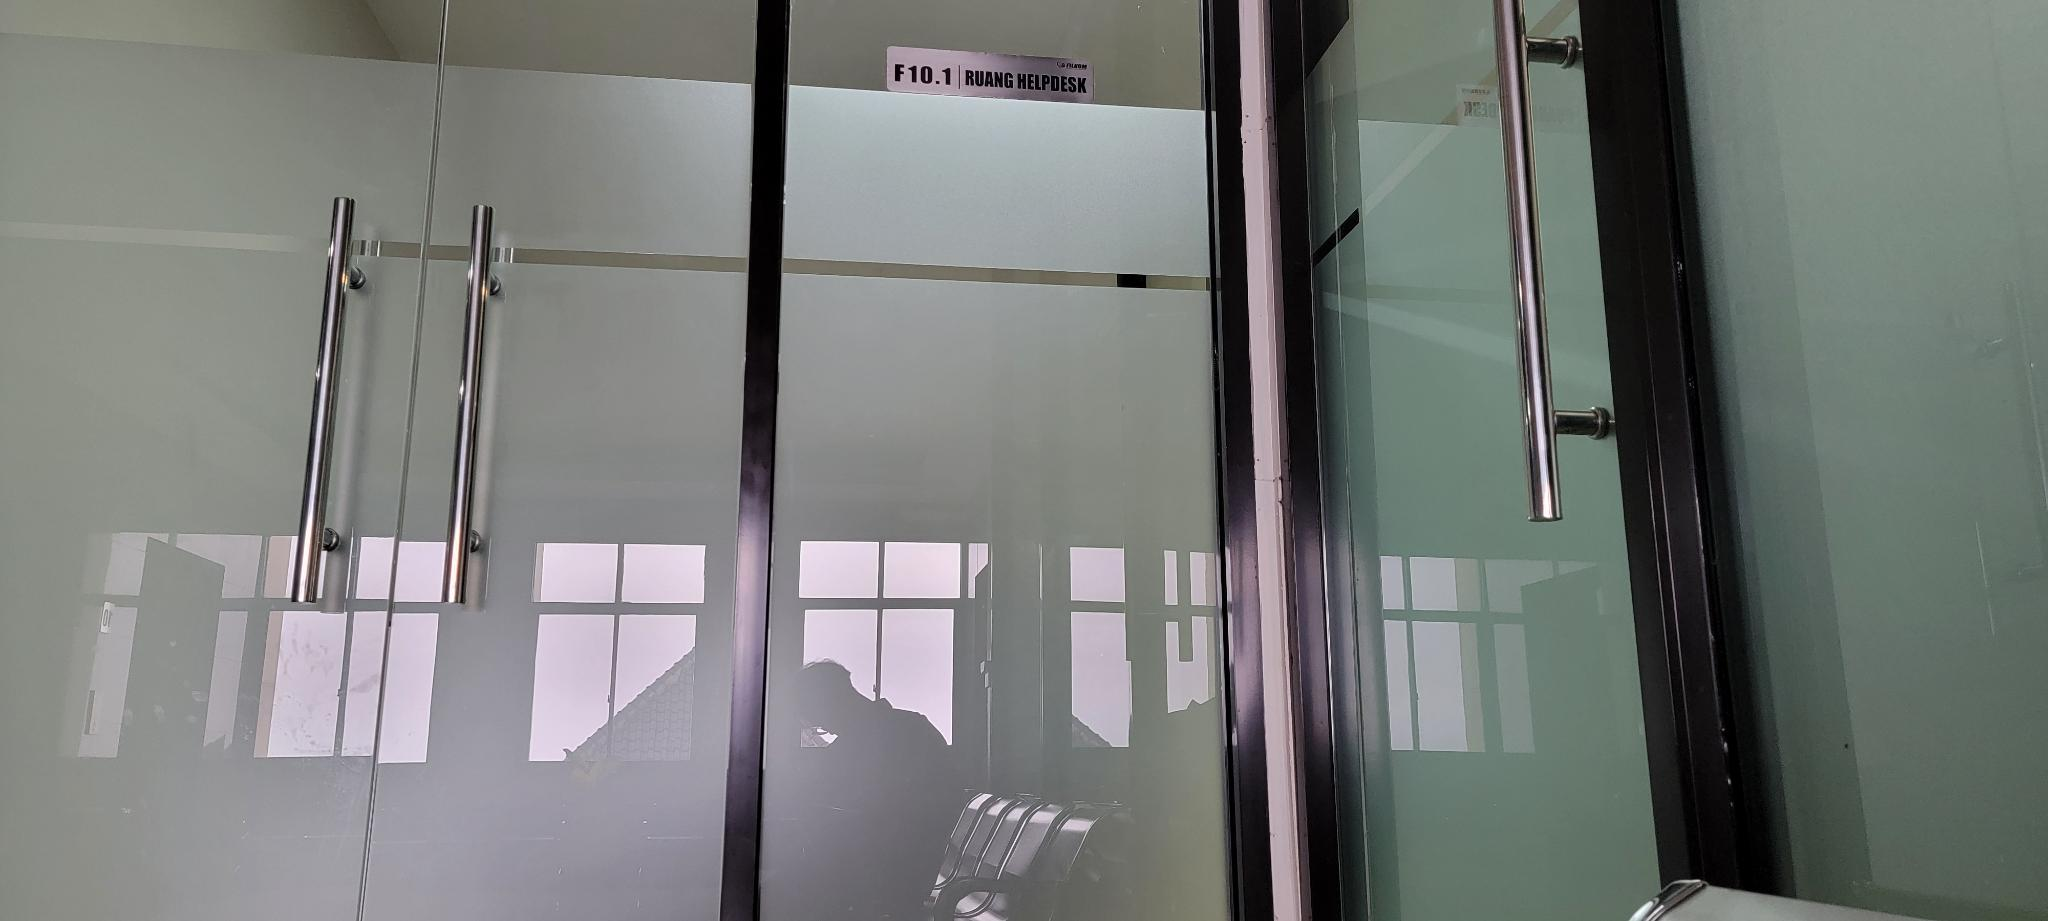plate: (885, 43, 1096, 106)
